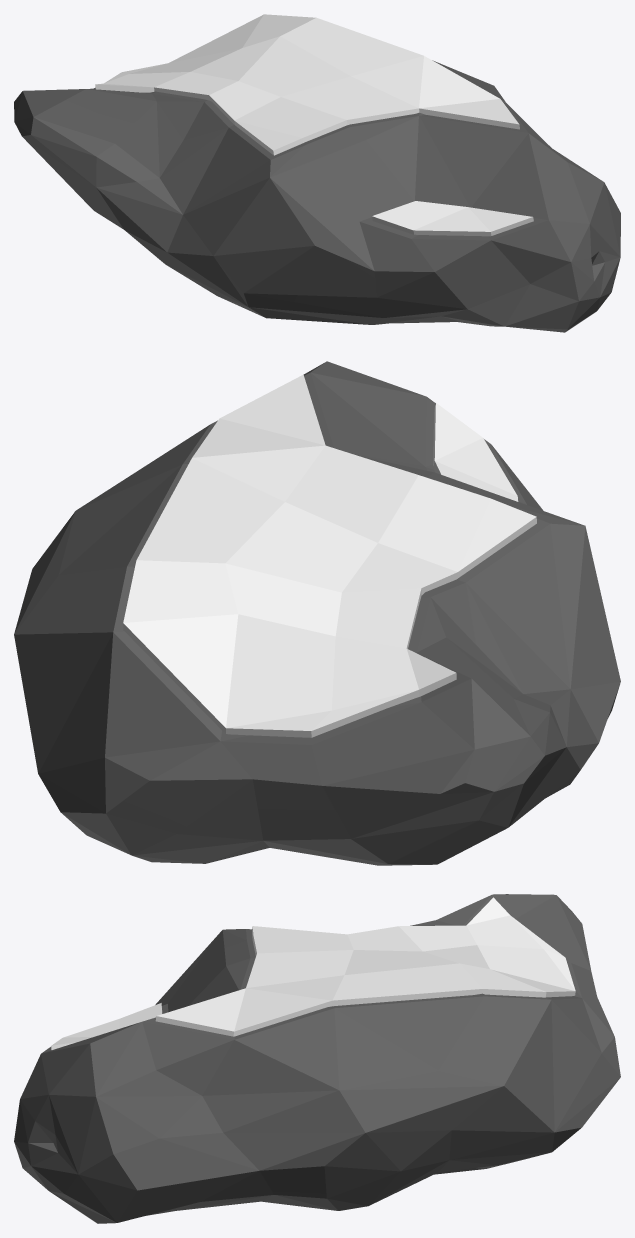
File: roca_nieve_2.fbx
The picture shows the model from 3 angles, top to bottom: view 1: azimuth 30°, elevation 25°; view 2: azimuth 150°, elevation 25°; view 3: azimuth 270°, elevation 25°; orthographic projection. The views are drawn at different scales.
Parts seen in each view (by area): view 1: rocaNieve2:Mesh; view 2: rocaNieve2:Mesh; view 3: rocaNieve2:Mesh.
Part boxes in pixels (<box>): rocaNieve2:Mesh: <box>14,14,620,332</box>; rocaNieve2:Mesh: <box>14,361,620,865</box>; rocaNieve2:Mesh: <box>14,894,620,1223</box>.
Bounding box in the file's own units: 107 × 47.92 × 130.
Materials: 1 (1 with a texture image).
